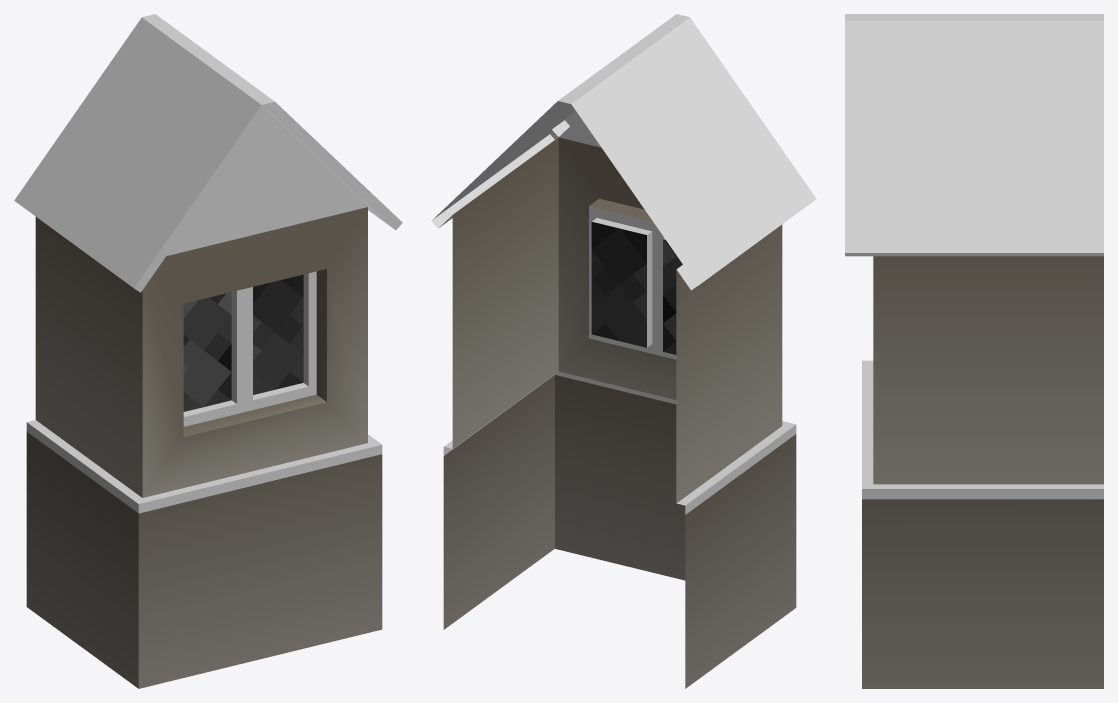
Rendered from Front_7.fbx.
The picture shows the model from 3 angles, left to right: view 1: azimuth 30°, elevation 25°; view 2: azimuth 150°, elevation 25°; view 3: azimuth 270°, elevation 25°; orthographic projection. The views are drawn at different scales.
Visible parts, largest first — view 1: Front_F.001, Front_F.003, Front_F.008, Front_F.004, Front_F.006, Front_F.002, Front_F.010, Front_F.009, Front_F.011, Front_F.005, Front_F.013, Front_F.012 (+1 smaller); view 2: Front_F.001, Front_F.003, Front_F.008, Front_F.006, Front_F.010, Front_F.002, Front_F.011, Front_F.009, Front_F.007, Front_F.005, Front_F.012, Front_F.013 (+1 smaller); view 3: Front_F.003, Front_F.008, Front_F.001, Front_F.006, Front_F.002, Front_F.007, Front_F.005.
Part boxes in pixels (bbox=[...]): Front_F.001: bbox=[26, 432, 382, 688]; Front_F.003: bbox=[35, 207, 367, 497]; Front_F.008: bbox=[29, 17, 248, 257]; Front_F.004: bbox=[166, 111, 367, 255]; Front_F.006: bbox=[14, 92, 274, 287]; Front_F.002: bbox=[26, 420, 382, 513]; Front_F.010: bbox=[253, 274, 303, 394]; Front_F.009: bbox=[183, 292, 231, 411]; Front_F.011: bbox=[183, 271, 316, 426]; Front_F.005: bbox=[134, 102, 402, 292]; Front_F.013: bbox=[183, 269, 326, 436]; Front_F.012: bbox=[183, 273, 308, 416]; Front_F.001: bbox=[443, 375, 796, 688]; Front_F.003: bbox=[452, 137, 782, 503]; Front_F.008: bbox=[447, 27, 788, 264]; Front_F.006: bbox=[433, 14, 816, 285]; Front_F.010: bbox=[591, 222, 646, 347]; Front_F.002: bbox=[443, 371, 796, 514]; Front_F.011: bbox=[589, 206, 676, 359]; Front_F.009: bbox=[663, 239, 682, 354]; Front_F.007: bbox=[558, 23, 676, 103]; Front_F.005: bbox=[431, 110, 697, 287]; Front_F.012: bbox=[592, 218, 665, 347]; Front_F.013: bbox=[589, 198, 652, 221]; Front_F.003: bbox=[873, 256, 1103, 484]; Front_F.008: bbox=[873, 21, 1103, 225]; Front_F.001: bbox=[862, 499, 1103, 688]; Front_F.006: bbox=[845, 14, 1103, 252]; Front_F.002: bbox=[862, 360, 1103, 499]; Front_F.007: bbox=[873, 14, 1103, 20]; Front_F.005: bbox=[845, 253, 1103, 256].
Size of the model in its own units: 298 by 595 by 230.
